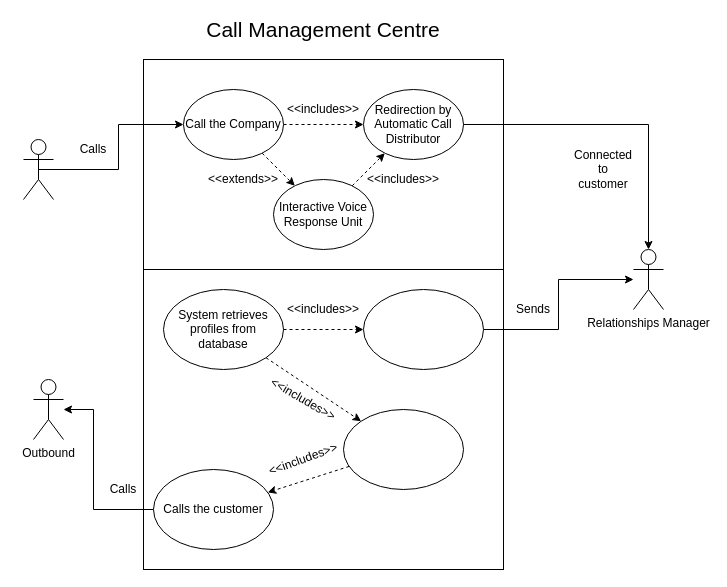
The diagram is 727 pixels wide and 587 high, and some of its shapes have lost their labels. The centre of each missing label's shape, as x and y in pixels:
Generate Target List: the point at 403,449
Generates guidelines script for the RM: the point at 423,329
Inbound: the point at 38,169
